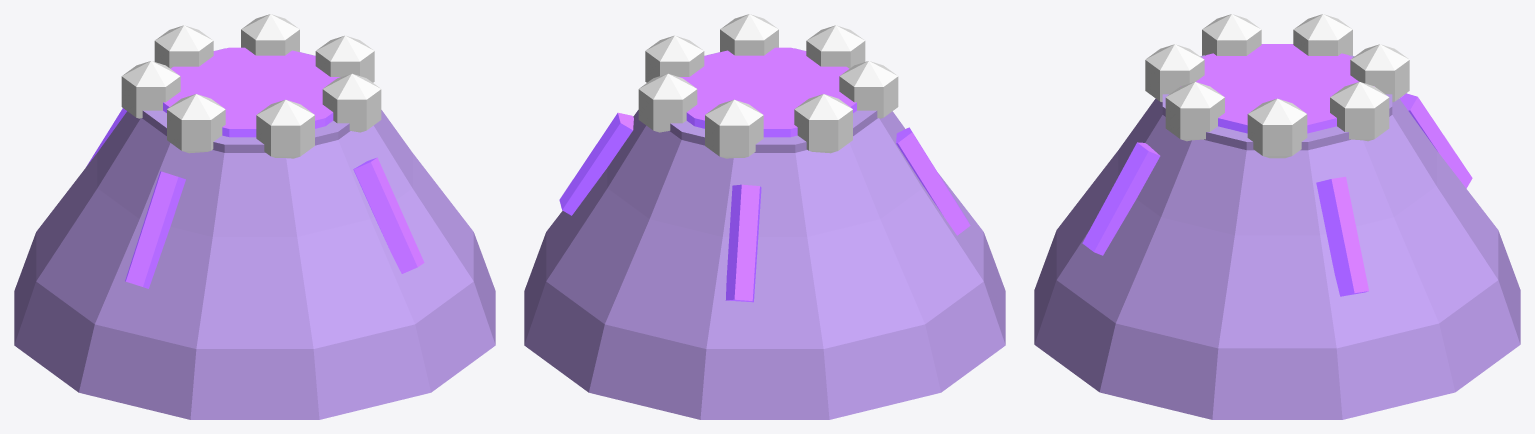
Rendered from soda_geyser.fbx.
The picture shows the model from 3 angles, left to right: view 1: azimuth 30°, elevation 25°; view 2: azimuth 150°, elevation 25°; view 3: azimuth 270°, elevation 25°; orthographic projection.
Parts seen in each view (by area): view 1: Mound, Foam, Soda, Drips; view 2: Mound, Foam, Soda, Drips; view 3: Mound, Foam, Soda, Drips.
Boxes of the visible parts, x1,y1,x2,y2 form: Mound: [14, 48, 495, 419]; Foam: [121, 14, 381, 158]; Soda: [163, 47, 340, 137]; Drips: [86, 108, 424, 288]; Mound: [524, 48, 1005, 419]; Foam: [638, 14, 898, 158]; Soda: [679, 47, 856, 137]; Drips: [559, 112, 970, 302]; Mound: [1034, 55, 1520, 419]; Foam: [1145, 14, 1409, 158]; Soda: [1180, 44, 1374, 133]; Drips: [1082, 93, 1472, 296].
Size of the model in its own units: 10.63 by 6.35 by 10.63.
